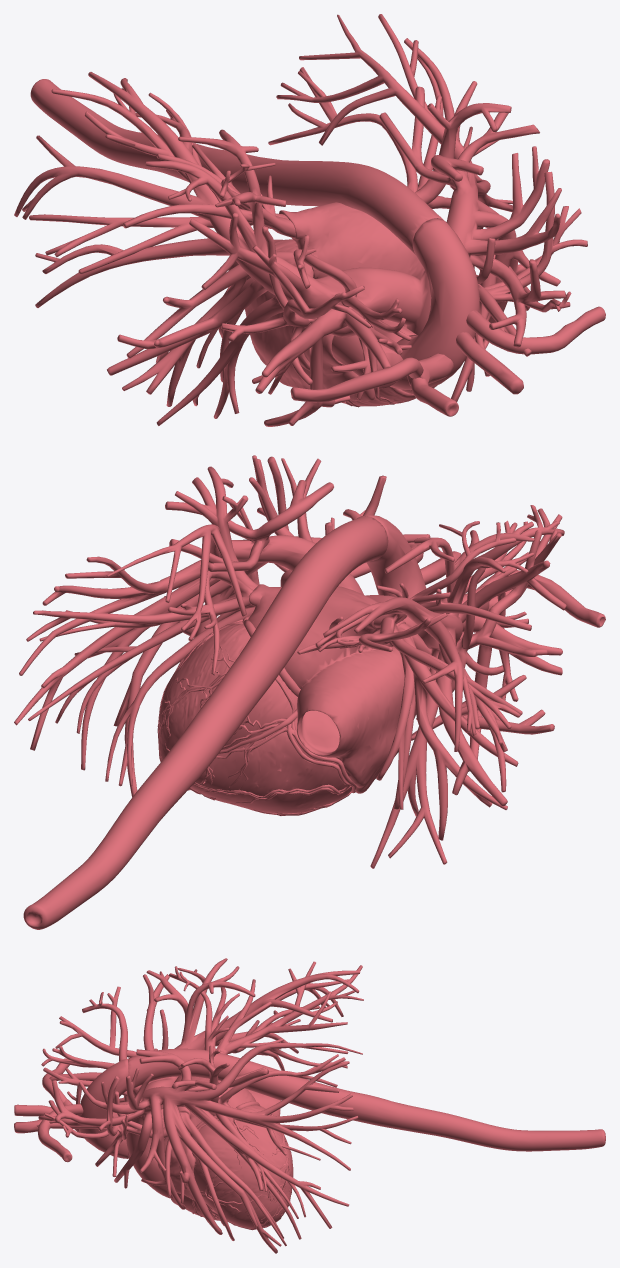
Rendered from thorax__vascular.d64eade294.glb.
3 renders of one model, top to bottom at view 1: azimuth 30°, elevation 25°; view 2: azimuth 150°, elevation 25°; view 3: azimuth 270°, elevation 25°, orthographic. The views are drawn at different scales.
Visible parts, largest first — view 1: FMA66326, FMA66643, FMA3784, FMA7274, FMA3768, FMA4694, FMA3953, FMA4058, FMA4720, FMA3941, FMA3932nsn; view 2: FMA66326, FMA7274, FMA66643, FMA3784, FMA3768, FMA3953, FMA71567, FMA4713, FMA3818, FMA3840nsn, FMA76751, FMA3802; view 3: FMA66326, FMA66643, FMA3784, FMA7274, FMA3768, FMA4694, FMA3862nsn, FMA3941.
Part boxes in pixels (<box>): FMA66326: <box>14,14,566,426</box>; FMA66643: <box>29,58,587,406</box>; FMA3784: <box>30,79,443,254</box>; FMA7274: <box>228,194,424,406</box>; FMA3768: <box>390,218,479,390</box>; FMA4694: <box>466,306,605,354</box>; FMA3953: <box>290,357,423,402</box>; FMA4058: <box>456,332,523,394</box>; FMA4720: <box>332,327,403,389</box>; FMA3941: <box>411,377,458,416</box>; FMA3932nsn: <box>407,353,453,385</box>; FMA66326: <box>14,455,566,868</box>; FMA7274: <box>158,584,429,813</box>; FMA66643: <box>26,456,562,840</box>; FMA3784: <box>23,516,388,929</box>; FMA3768: <box>361,514,426,598</box>; FMA3953: <box>489,570,605,627</box>; FMA71567: <box>193,723,351,815</box>; FMA4713: <box>161,709,297,789</box>; FMA3818: <box>195,782,352,815</box>; FMA3840nsn: <box>203,723,296,787</box>; FMA76751: <box>157,621,242,741</box>; FMA3802: <box>275,677,356,793</box>; FMA66326: <box>38,958,362,1253</box>; FMA66643: <box>37,961,363,1246</box>; FMA3784: <box>128,1048,605,1151</box>; FMA7274: <box>157,1051,293,1228</box>; FMA3768: <box>78,1058,128,1158</box>; FMA4694: <box>37,1104,83,1162</box>; FMA3862nsn: <box>192,1175,282,1230</box>; FMA3941: <box>14,1104,53,1116</box>.
Bounding box in the file's own units: 248 × 161 × 425.
